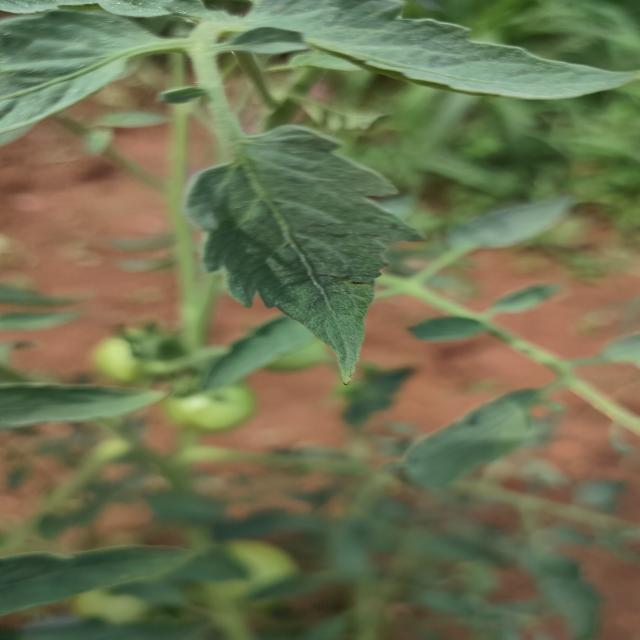tomato_healthy: (184, 124, 420, 380), (244, 0, 637, 98), (0, 9, 185, 132)
